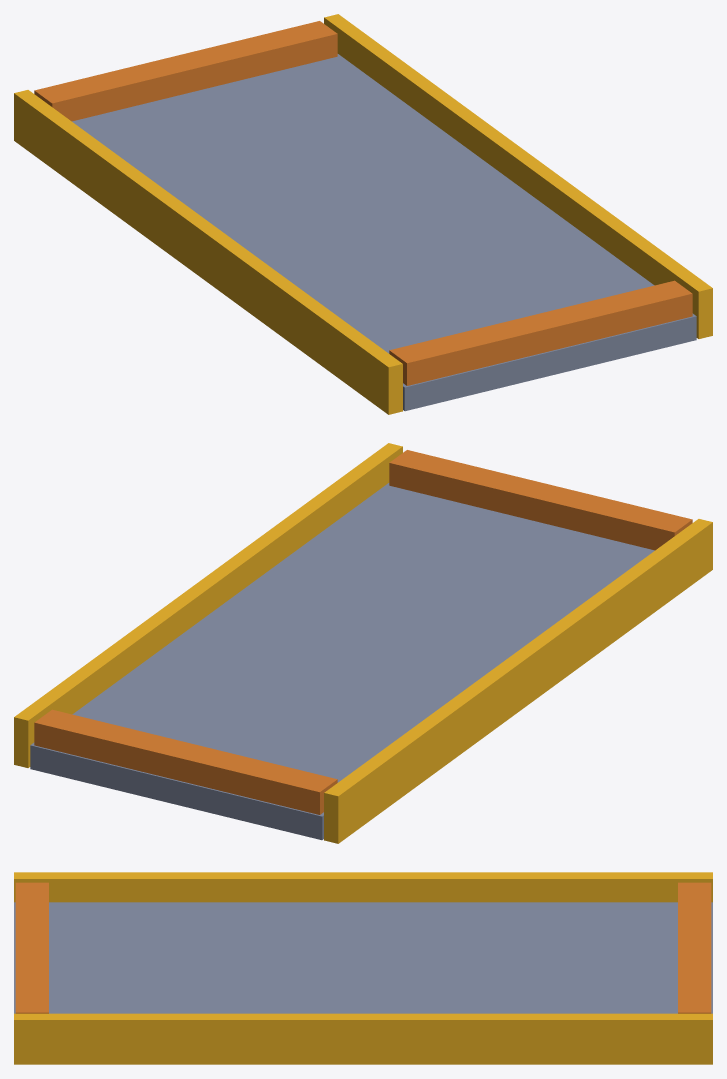
File: vibe_floor.glb
The picture shows the model from 3 angles, top to bottom: view 1: azimuth 30°, elevation 25°; view 2: azimuth 150°, elevation 25°; view 3: azimuth 270°, elevation 25°; orthographic projection. The views are drawn at different scales.
Parts seen in each view (by area): view 1: vibe_floor; view 2: vibe_floor; view 3: vibe_floor.
Part boxes in pixels (x1,y1,x2,y2): vibe_floor: [14, 14, 712, 414]; vibe_floor: [14, 443, 712, 843]; vibe_floor: [14, 872, 712, 1064].
Size of the model in its own units: 1 by 0.1412 by 2.
